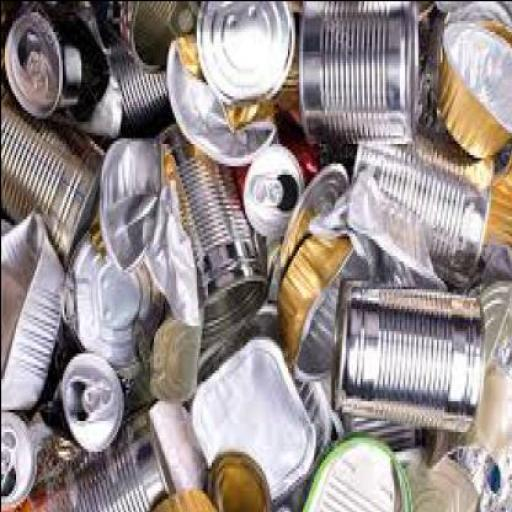metal: (182, 322, 324, 504), (150, 126, 265, 333), (330, 291, 480, 434), (350, 134, 492, 283), (0, 79, 101, 266), (296, 2, 415, 152), (20, 405, 177, 511), (59, 224, 170, 372), (163, 33, 274, 171), (26, 358, 136, 496), (277, 232, 370, 386), (1, 210, 64, 412), (2, 2, 106, 120), (438, 8, 510, 162), (194, 3, 292, 109), (93, 140, 165, 274), (231, 132, 314, 246), (84, 2, 197, 72), (279, 162, 346, 268), (102, 58, 168, 140), (144, 314, 198, 402), (146, 406, 200, 492), (0, 420, 36, 506), (417, 6, 441, 134), (482, 148, 510, 254), (481, 282, 510, 381)
